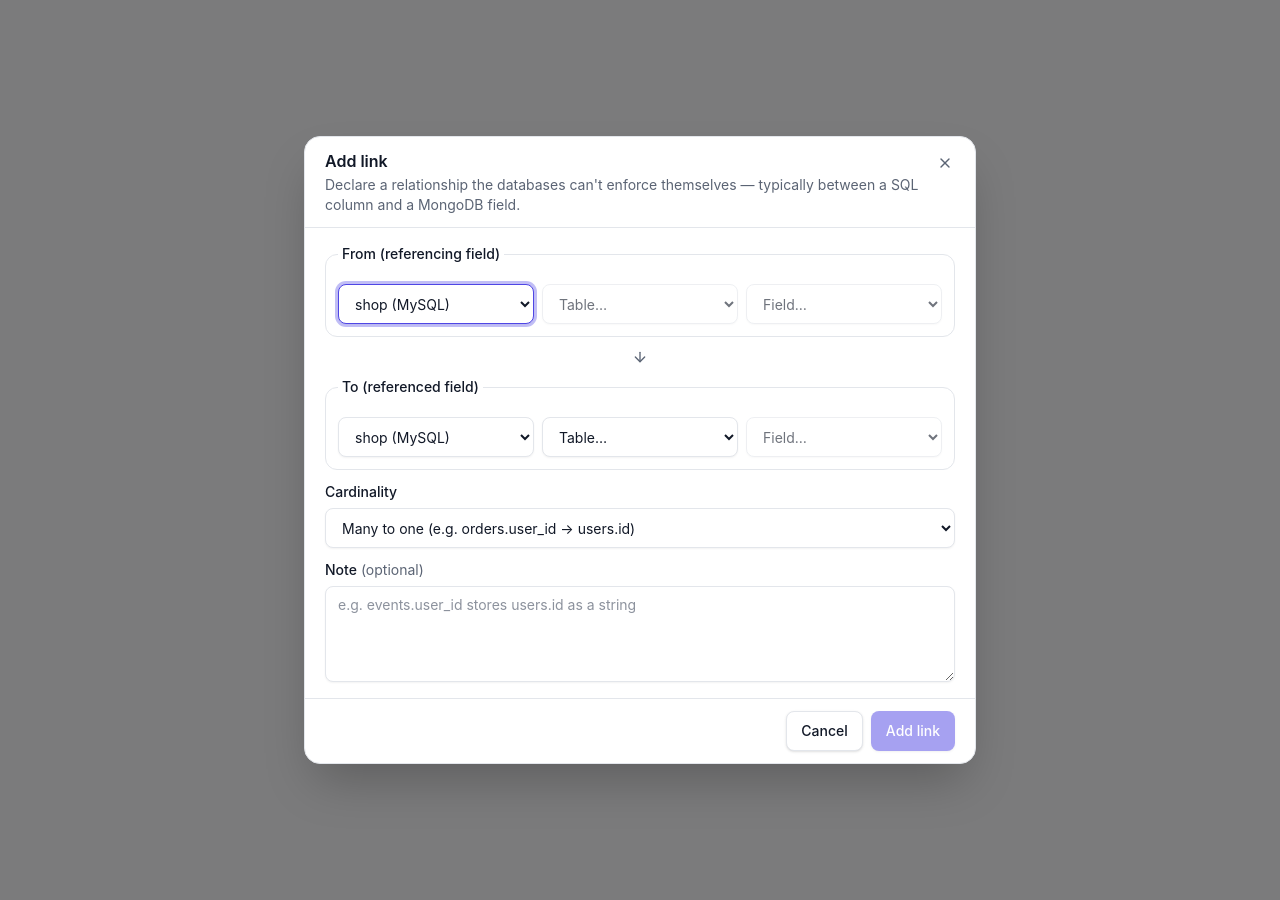
AddLinkDialog › only says a field can't link to itself once both ends are chosen
Select "shop (MySQL)" in the dropdown named "From (referencing field) source". click: (436, 304)
box: [338,284,534,324]
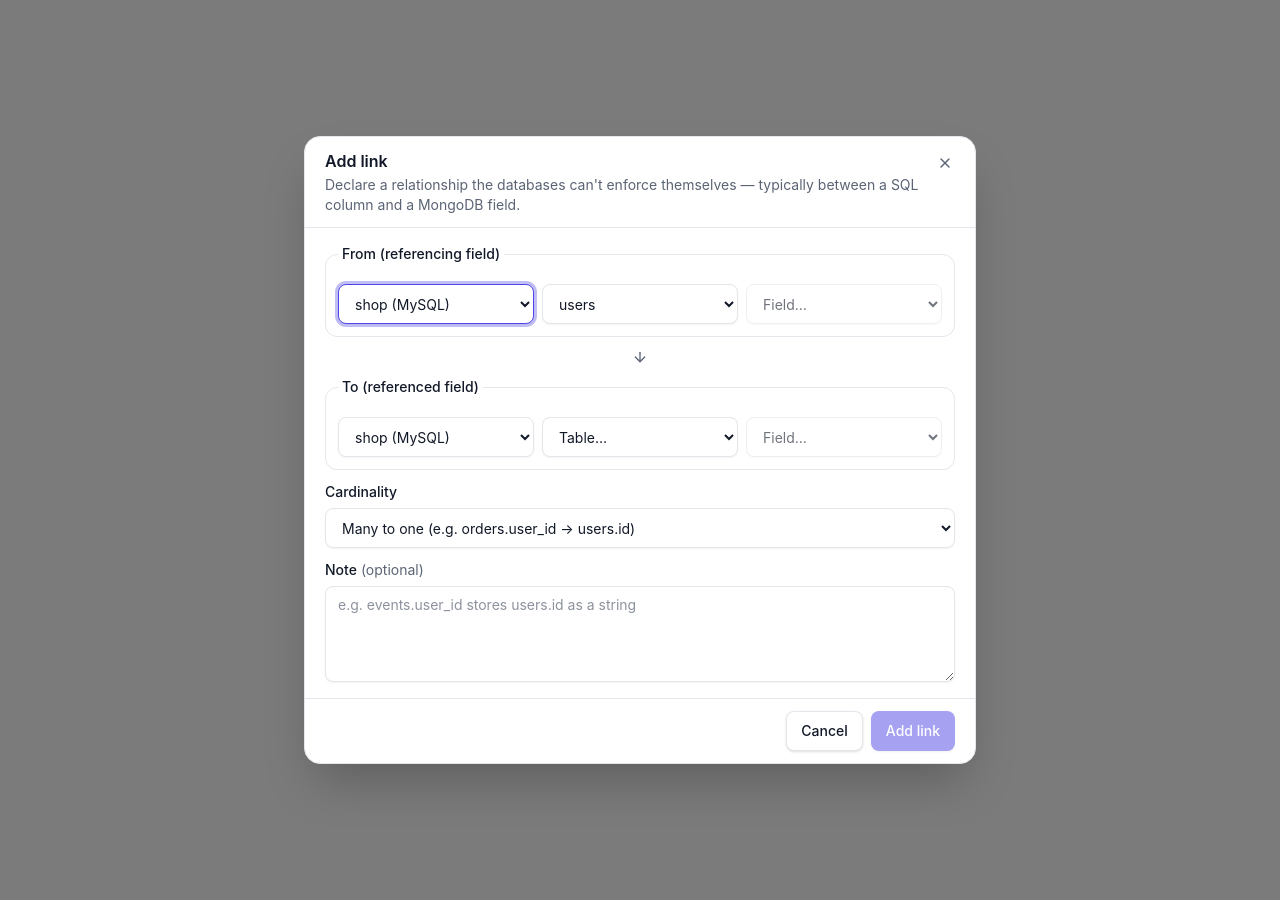
Check: the text "A field can't link to itself." is not shown
Select "users" in the dropdown named "From (referencing field) entity". click: (640, 304)
box: [542,284,738,324]
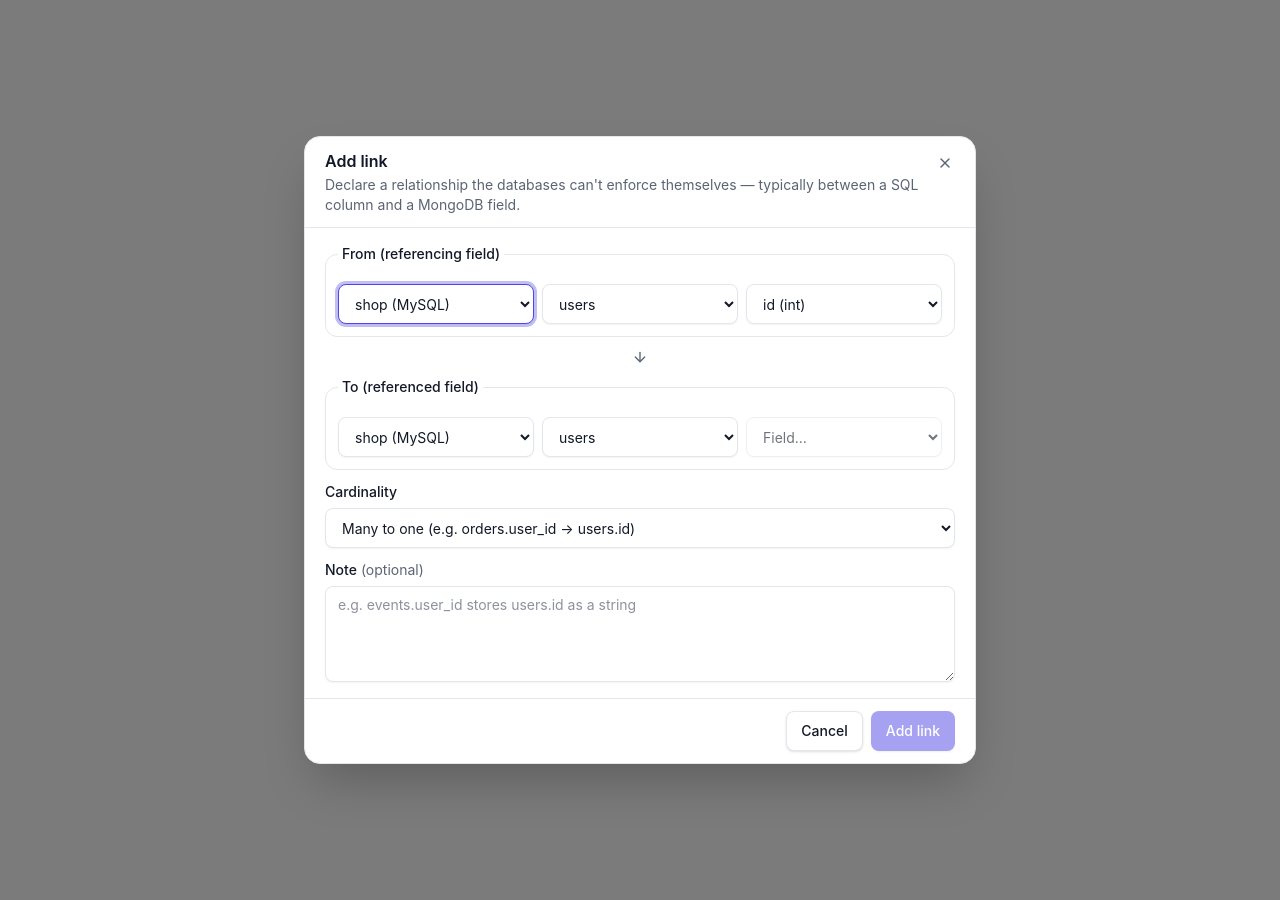
Select "users" in the dropdown named "To (referenced field) entity". click: (640, 437)
box: [542,417,738,457]
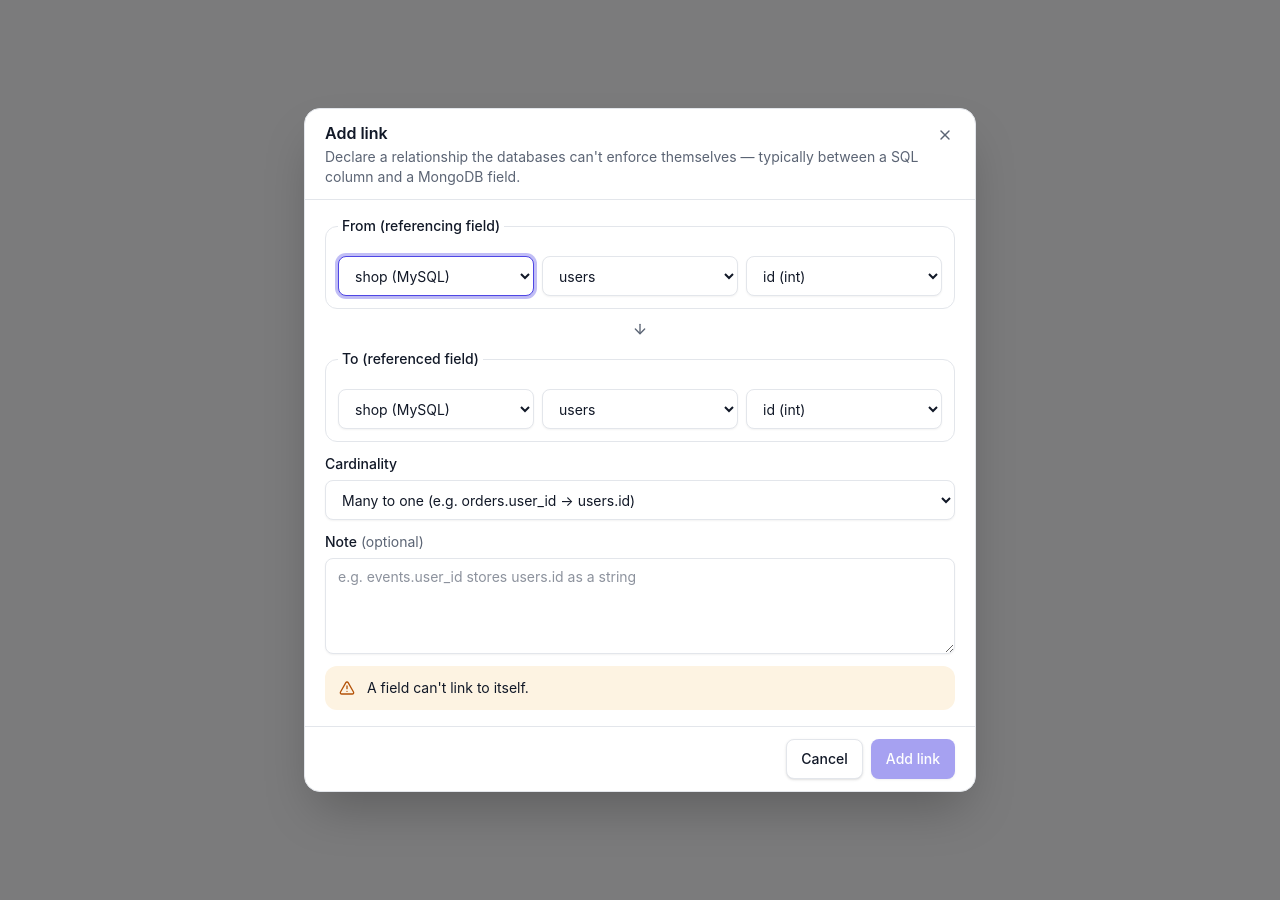
Check: the text "A field can't link to itself." is shown, box [367,679,529,696]
